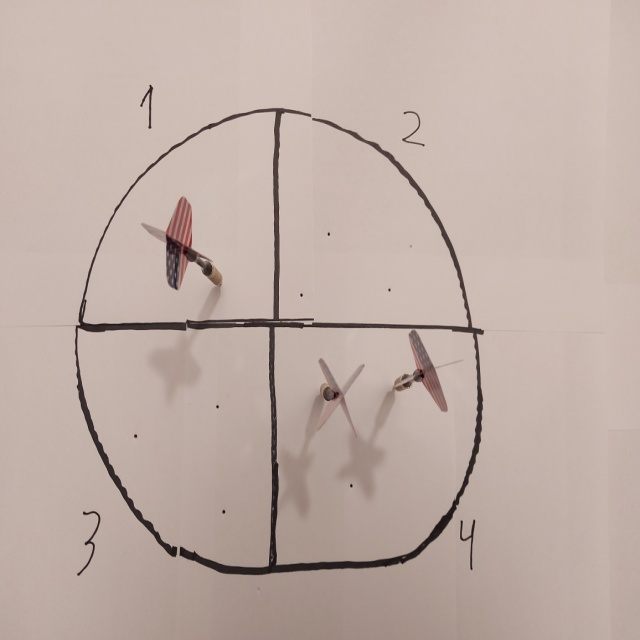Dart: (135, 190, 230, 295), (385, 325, 459, 419), (304, 352, 371, 445)
